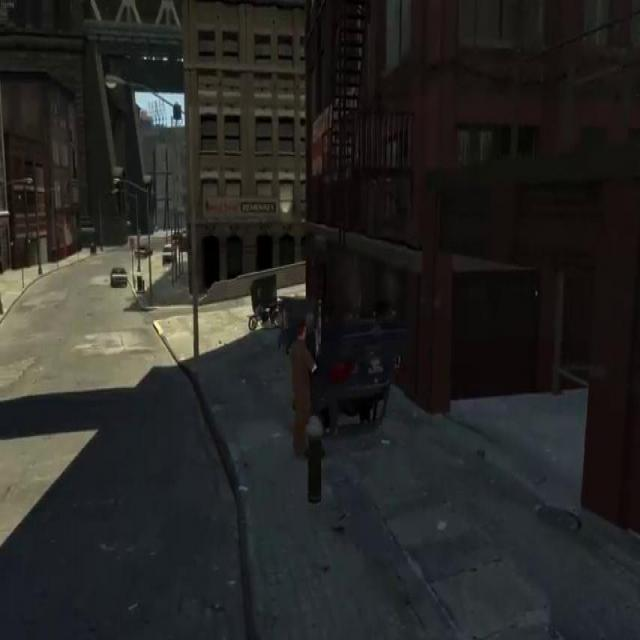accident: (275, 283, 411, 438)
